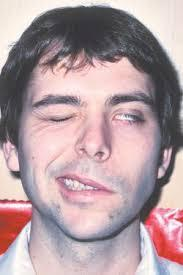strokeEyeSevere: (28, 91, 155, 128)
strokeMouthSevere: (54, 172, 122, 205)
